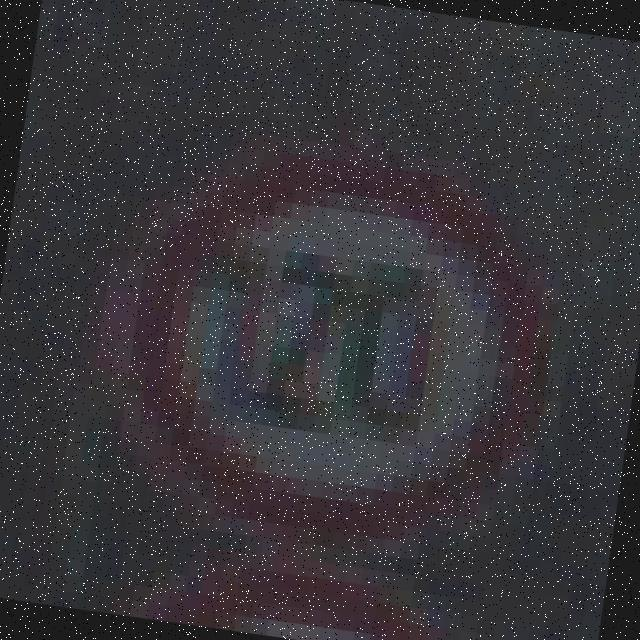Ograniczenie predkosci do 120: (122, 133, 566, 564)
